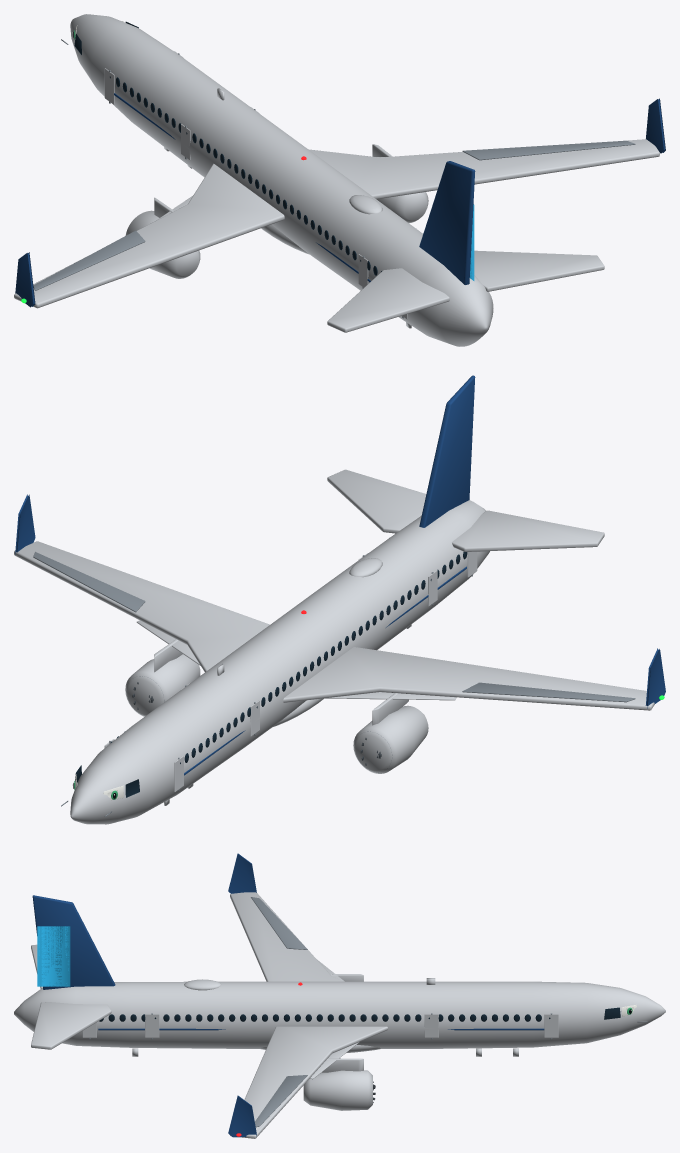
File: passenger-airplane.glb
3 renders of one model, top to bottom at view 1: azimuth 30°, elevation 25°; view 2: azimuth 150°, elevation 25°; view 3: azimuth 270°, elevation 25°, orthographic. The views are drawn at different scales.
Parts seen in each view (by area): view 1: Fuselage, Wing_R, Wing_L, Vertical_Stabilizer, Tailplane_R, Tailplane_L, Aileron_L, Aileron_R, Engine_R_Nacelle, Engine_L_Nacelle, Winglet_R, Winglet_L; view 2: Fuselage, Wing_R, Wing_L, Vertical_Stabilizer, Tailplane_R, Tailplane_L, Engine_R_Nacelle, Engine_L_Nacelle, Aileron_R, Aileron_L, Winglet_R, Winglet_L (+1 smaller); view 3: Fuselage, Wing_L, Wing_R, Vertical_Stabilizer, Engine_L_Nacelle, Tailplane_L, Tail_Cyan_Mark, Winglet_L, Winglet_R, Aileron_R, Aileron_L, L_LiveryStripe (+1 smaller).
Boxes of the visible parts, <box> form: Fuselage: <box>70,14,493,346</box>; Wing_R: <box>14,163,284,308</box>; Wing_L: <box>308,139,659,199</box>; Vertical_Stabilizer: <box>419,161,475,284</box>; Tailplane_R: <box>327,268,449,332</box>; Tailplane_L: <box>474,250,604,291</box>; Aileron_L: <box>462,140,635,160</box>; Aileron_R: <box>33,230,145,290</box>; Engine_R_Nacelle: <box>125,210,200,278</box>; Engine_L_Nacelle: <box>377,192,428,223</box>; Winglet_R: <box>15,252,35,307</box>; Winglet_L: <box>646,98,665,153</box>; Fuselage: <box>70,500,489,824</box>; Wing_R: <box>283,647,654,710</box>; Wing_L: <box>14,541,269,672</box>; Vertical_Stabilizer: <box>419,375,475,527</box>; Tailplane_R: <box>452,510,604,551</box>; Tailplane_L: <box>327,469,426,533</box>; Engine_R_Nacelle: <box>353,705,428,773</box>; Engine_L_Nacelle: <box>125,654,200,716</box>; Aileron_R: <box>462,682,635,702</box>; Aileron_L: <box>33,552,145,612</box>; Winglet_R: <box>645,648,665,708</box>; Winglet_L: <box>15,494,35,554</box>; Fuselage: <box>14,981,665,1048</box>; Wing_L: <box>230,1026,387,1138</box>; Wing_R: <box>230,892,343,981</box>; Vertical_Stabilizer: <box>32,895,115,989</box>; Engine_L_Nacelle: <box>303,1070,372,1110</box>; Tailplane_L: <box>31,1002,111,1049</box>; Tail_Cyan_Mark: <box>37,926,70,986</box>; Winglet_L: <box>228,1095,256,1137</box>; Winglet_R: <box>228,853,256,893</box>; Aileron_R: <box>251,897,307,949</box>; Aileron_L: <box>255,1075,307,1127</box>; L_LiveryStripe: <box>98,1028,544,1030</box>.
Size of the model in its own units: 34.64 by 11.11 by 38.7.
